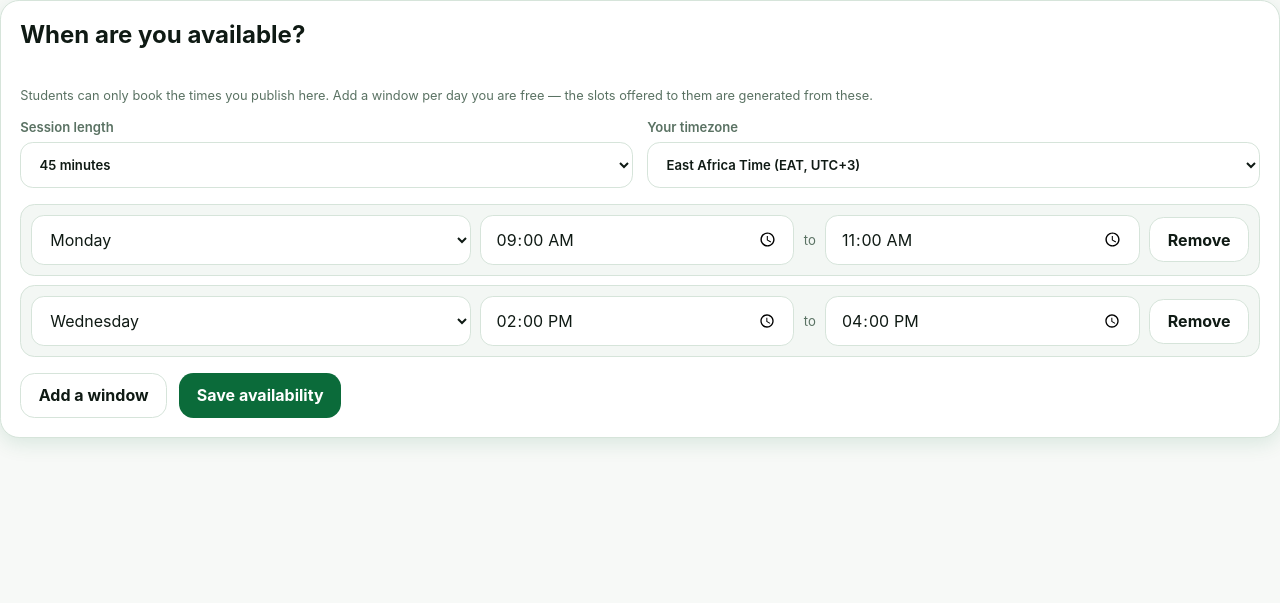
Test: AvailabilityEditor › shows the server's reason when a schedule is refused
Click the button "Add a window".
click(94, 395)  # box [20,373,167,418]
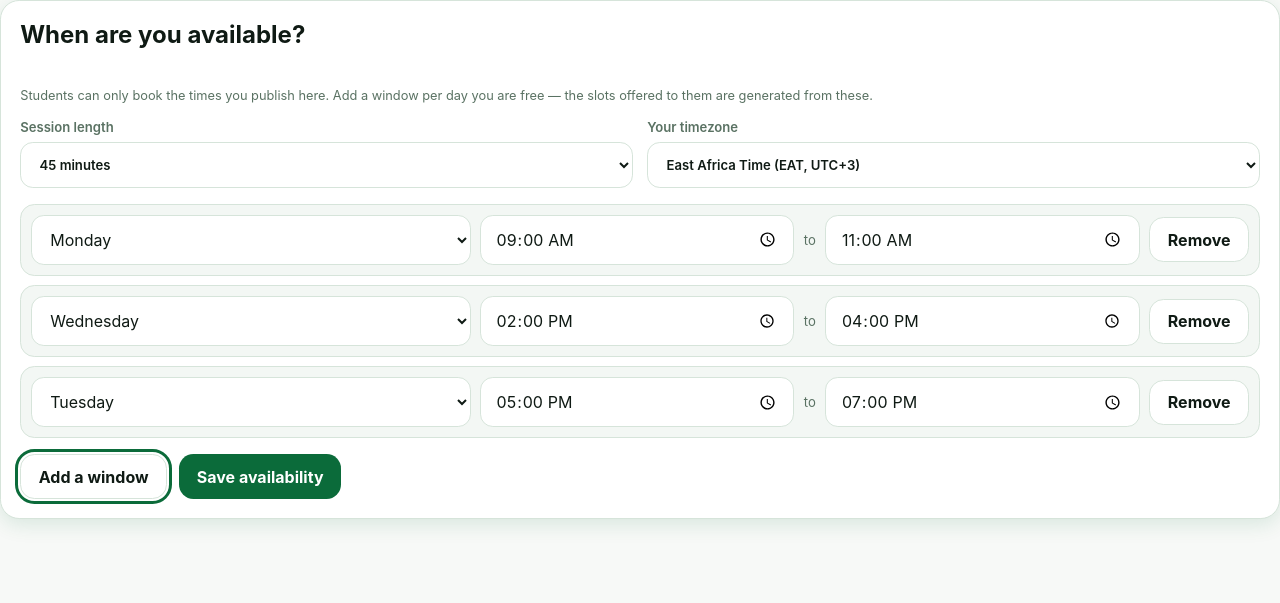
Click the button "Save availability".
click(260, 476)  # box [179,454,341,499]
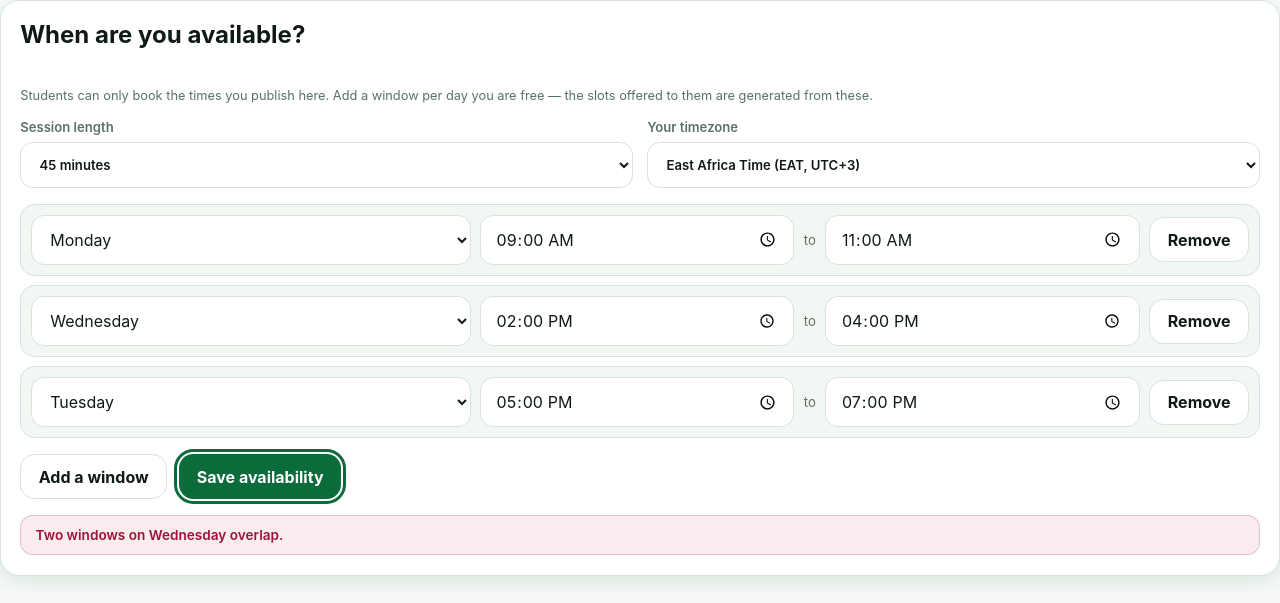
Expected: the text "Two windows on Wednesday overlap." is shown, [20,515,1260,555]
